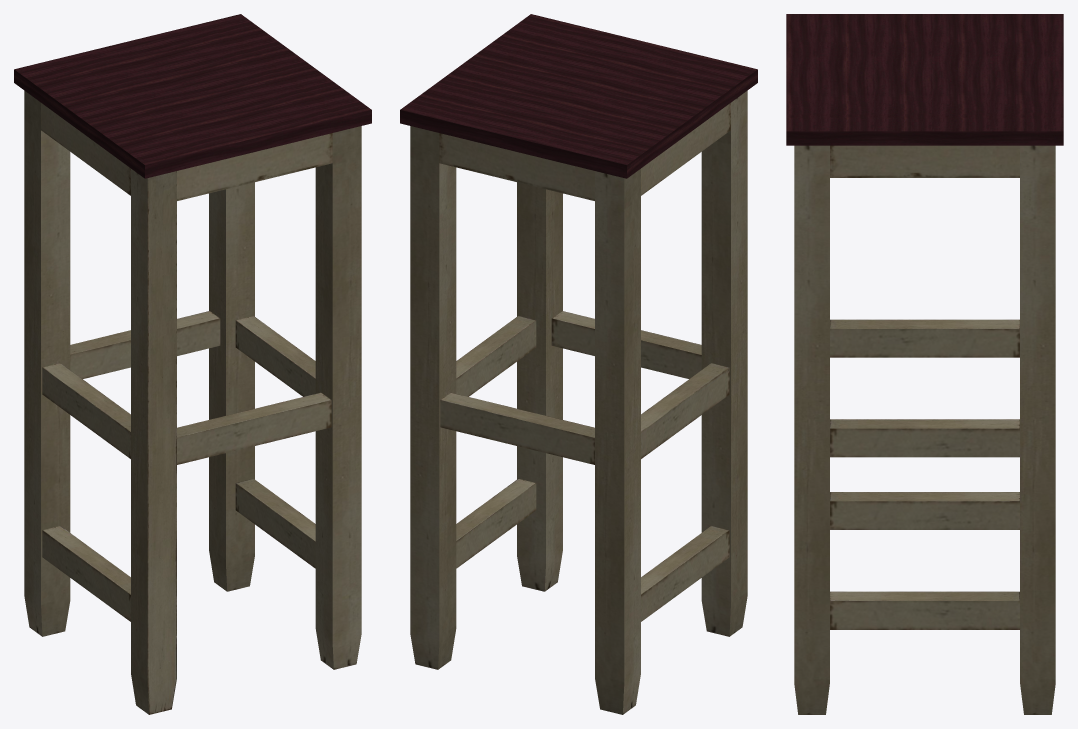
The model's file is example117.gltf.
The picture shows the model from 3 angles, left to right: view 1: azimuth 30°, elevation 25°; view 2: azimuth 150°, elevation 25°; view 3: azimuth 270°, elevation 25°; orthographic projection. The views are drawn at different scales.
Size of the model in its own units: 35 by 82 by 35.
Materials: 2 (2 with a texture image).
